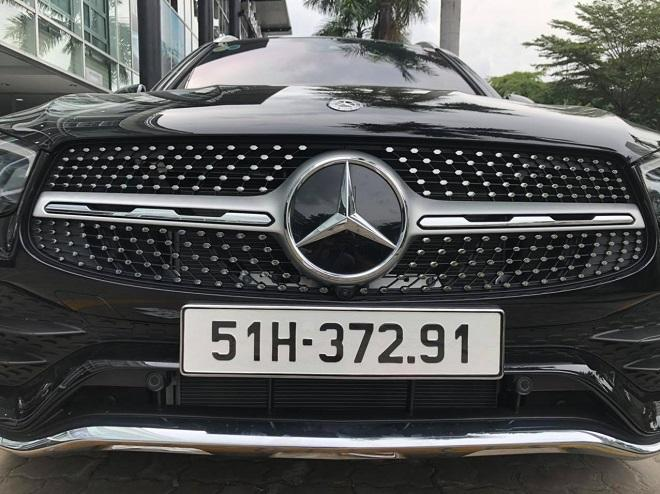numplate: (175, 298, 507, 383)
